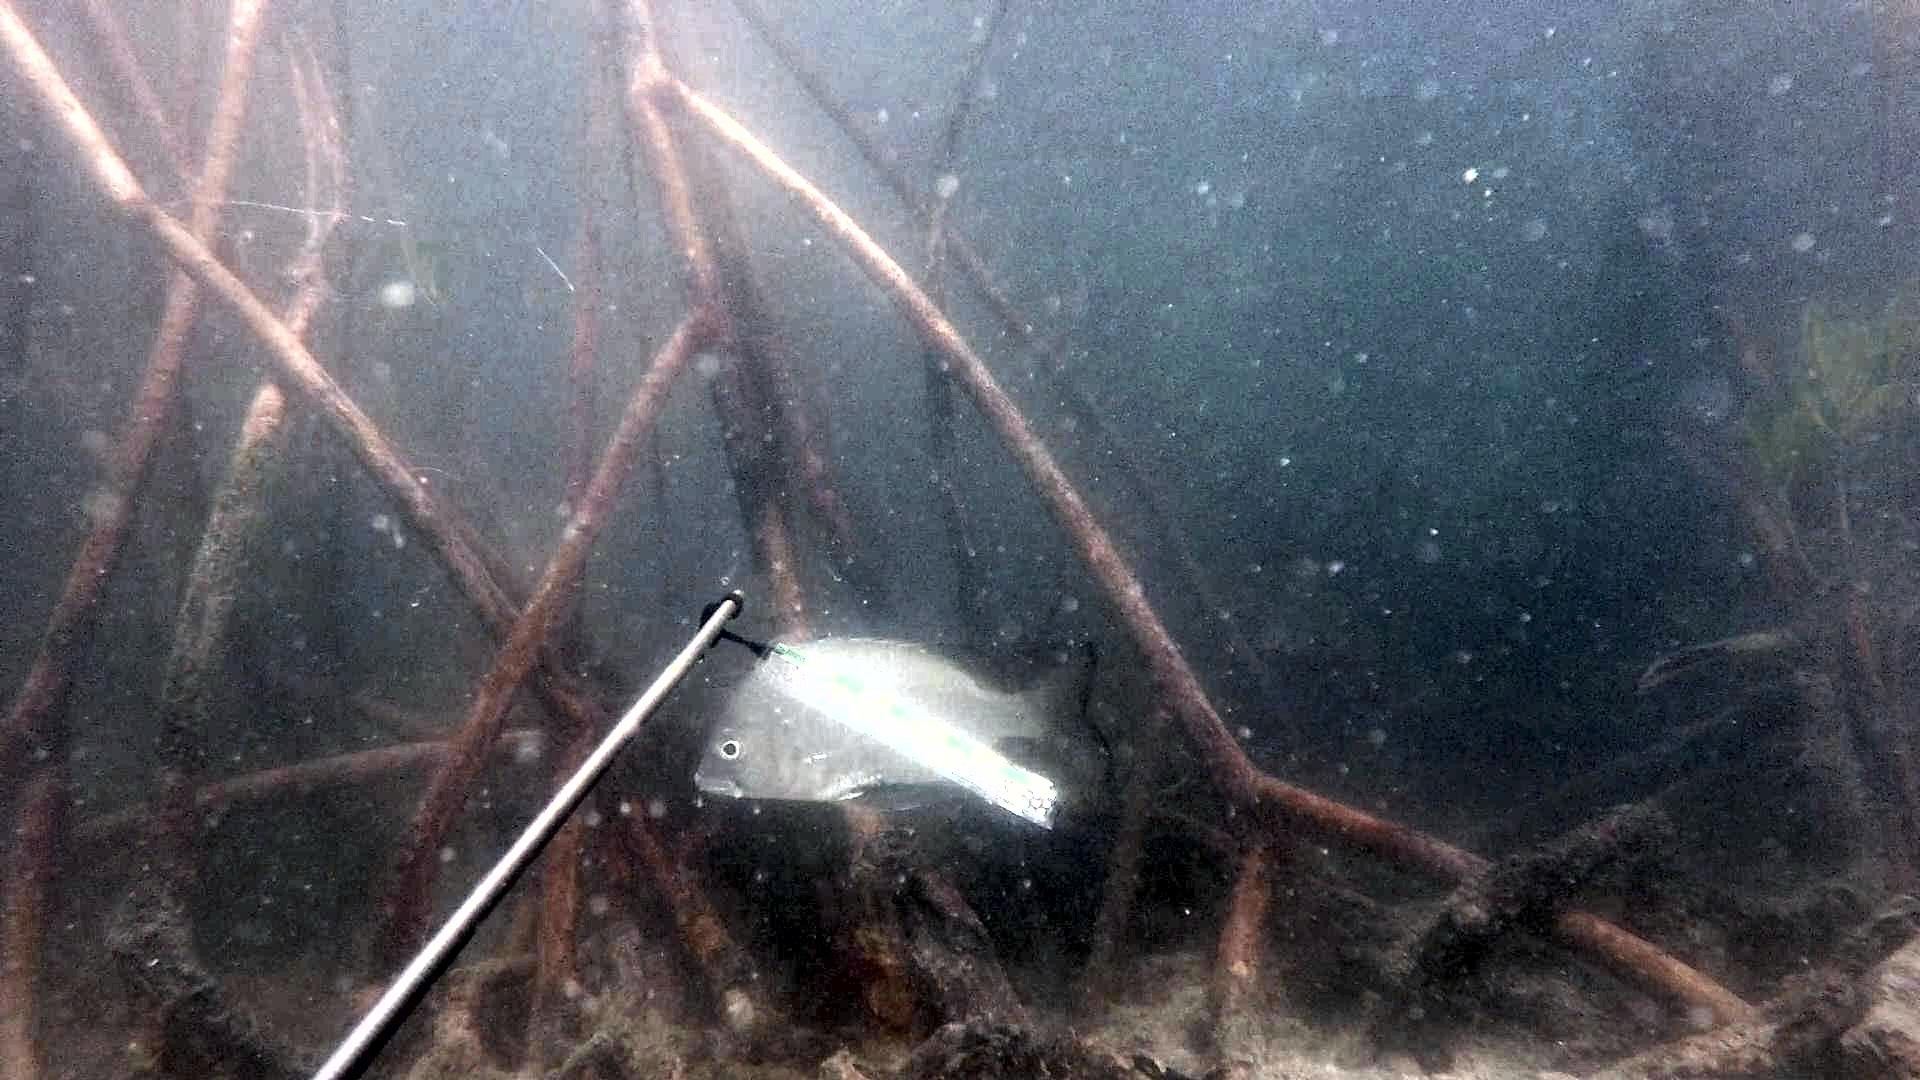acanthopagrus palmaris: (688, 626, 1117, 837)
